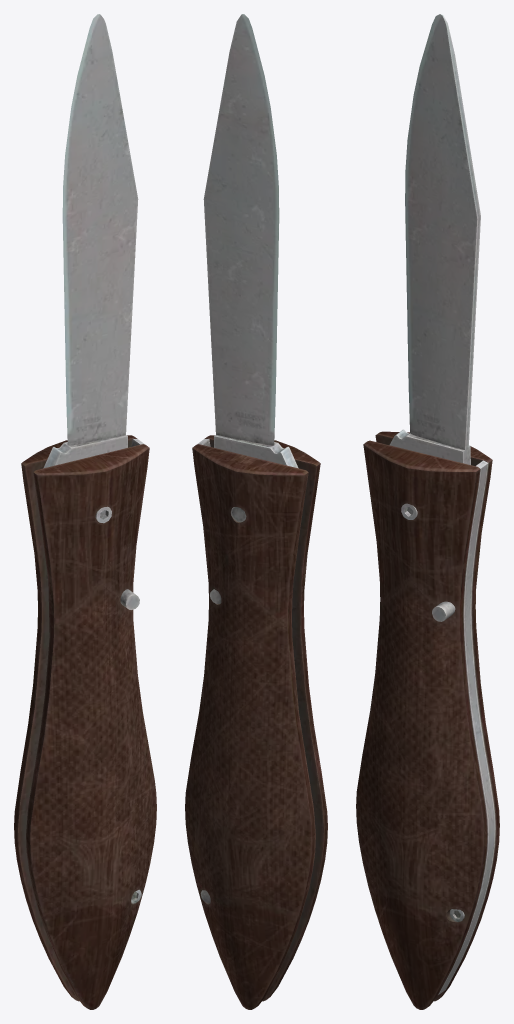
File: fish_knife.glb
3 renders of one model, left to right at view 1: azimuth 30°, elevation 25°; view 2: azimuth 150°, elevation 25°; view 3: azimuth 330°, elevation 25°, orthographic.
Parts seen in each view (by area): view 1: fish_knife_handle; view 2: fish_knife_handle; view 3: fish_knife_handle.
Boxes of the visible parts, x1,y1,x2,y2 form: fish_knife_handle: (14, 14, 156, 1009); fish_knife_handle: (185, 14, 327, 1009); fish_knife_handle: (356, 14, 499, 1009).
Size of the model in its own units: 0.029 by 0.2157 by 0.0161.
1 material, 1 textured.
